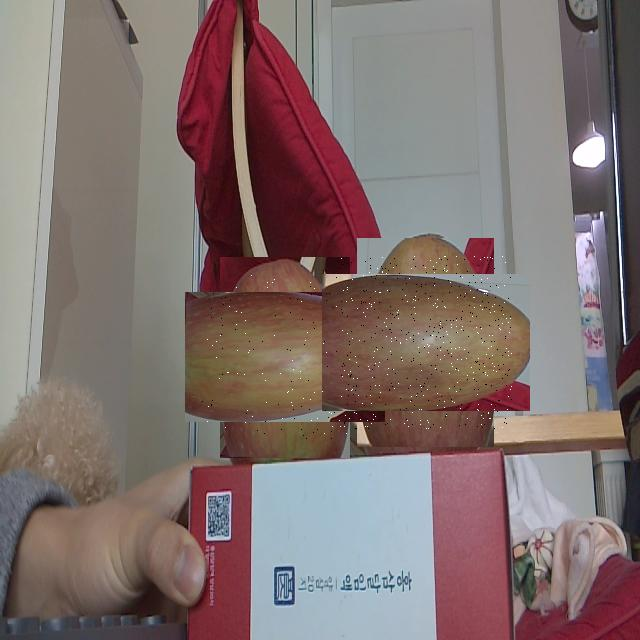apple: (339, 256, 512, 429), (202, 275, 368, 440)
